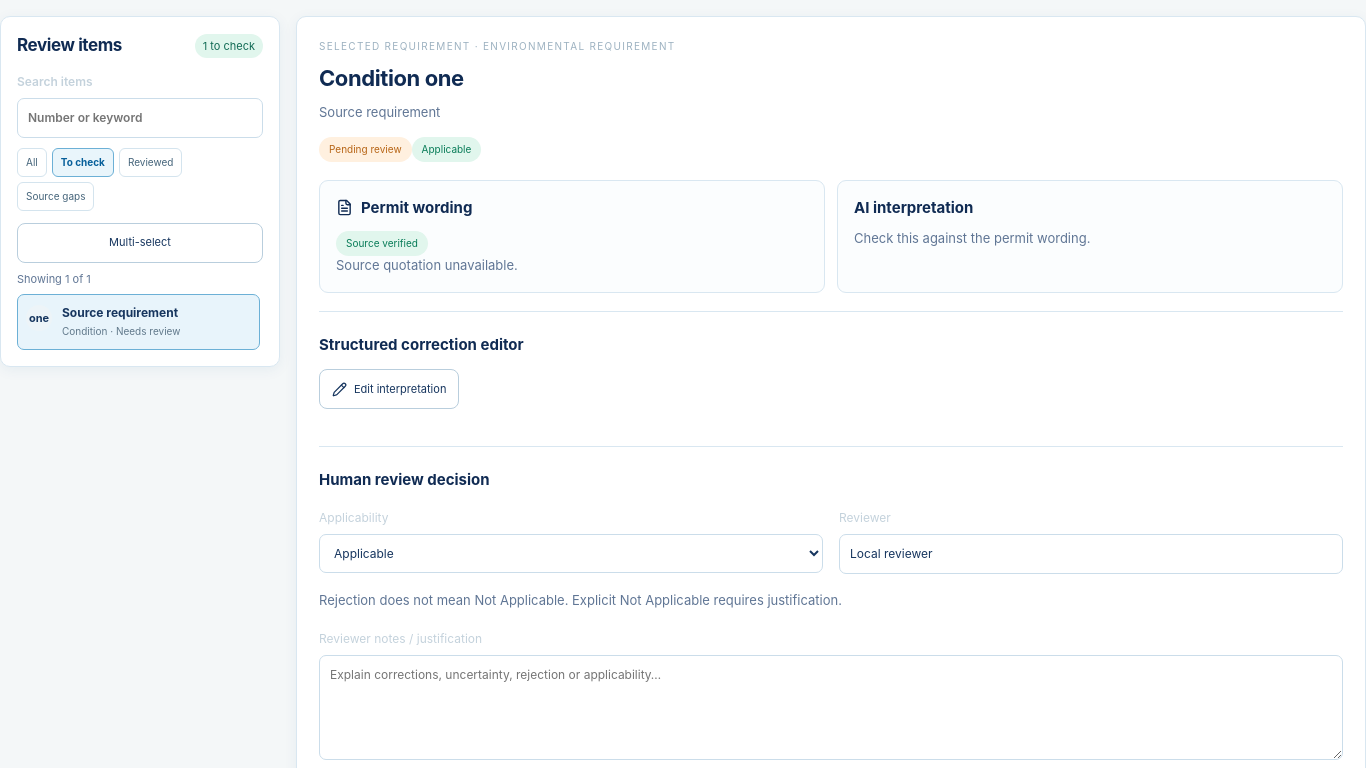
it: confirmed multi-select saves approval and applicability and reports completion
Expected: the heading "Condition one" is shown, [319, 65, 464, 91]
Click the button "Multi-select".
click(140, 242)  # box [17, 222, 263, 262]
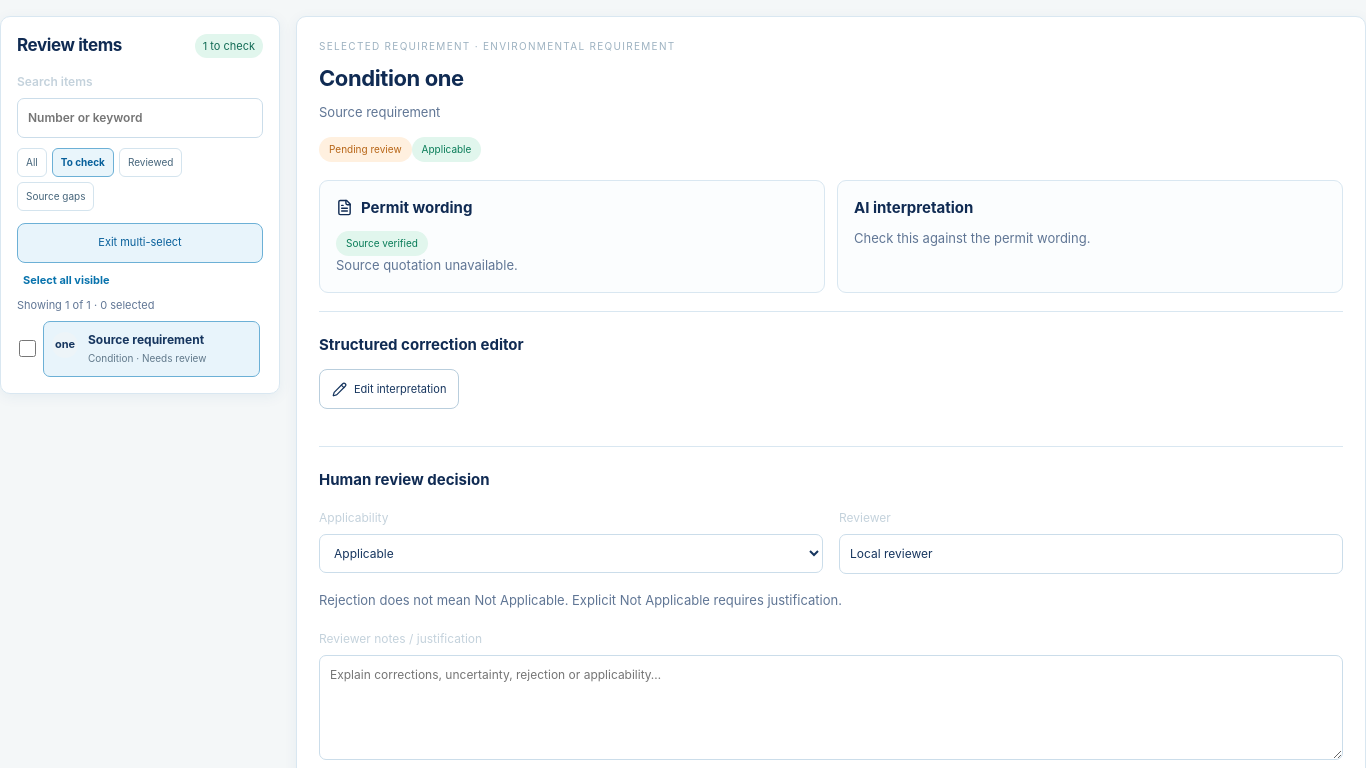
Click the button "Select all visible".
click(66, 280)  # box [17, 270, 116, 289]
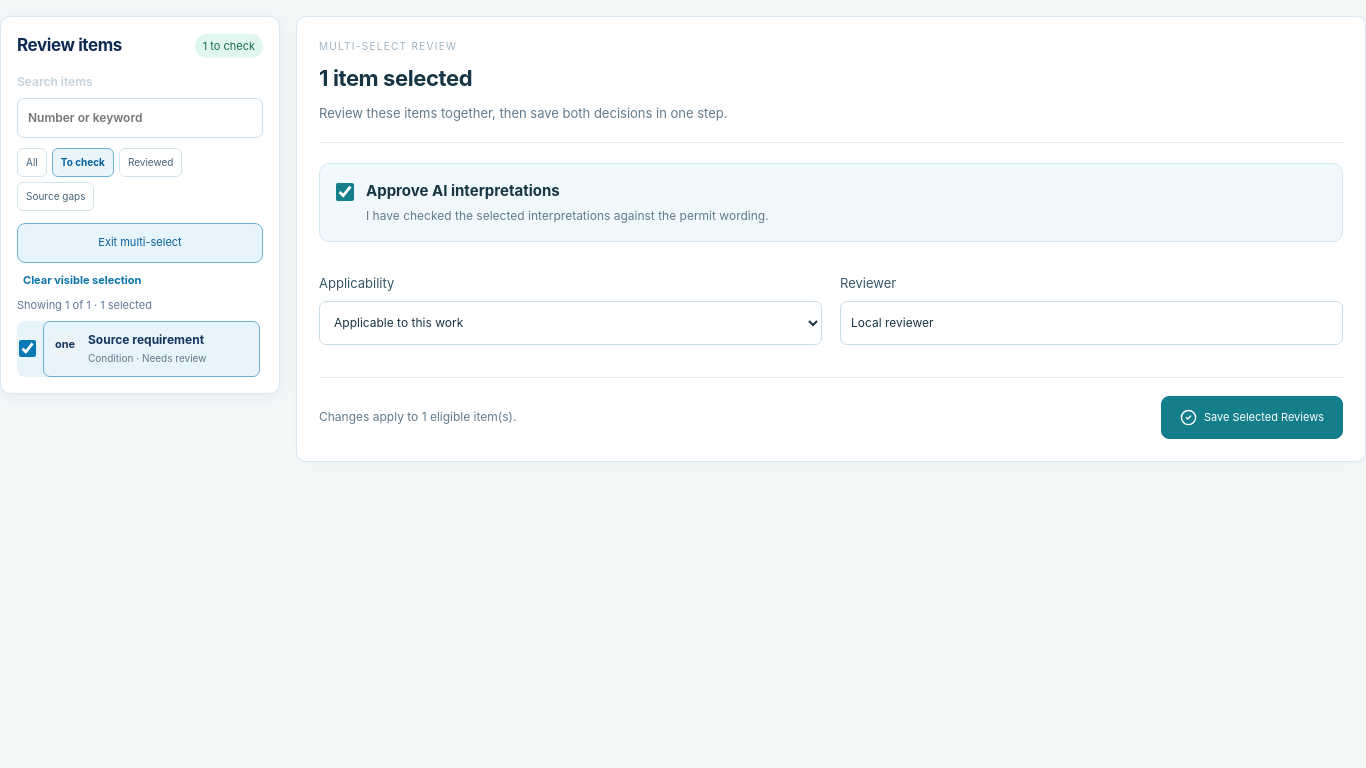
Click the button "Save Selected Reviews".
click(1252, 417)  # box [1161, 396, 1343, 439]
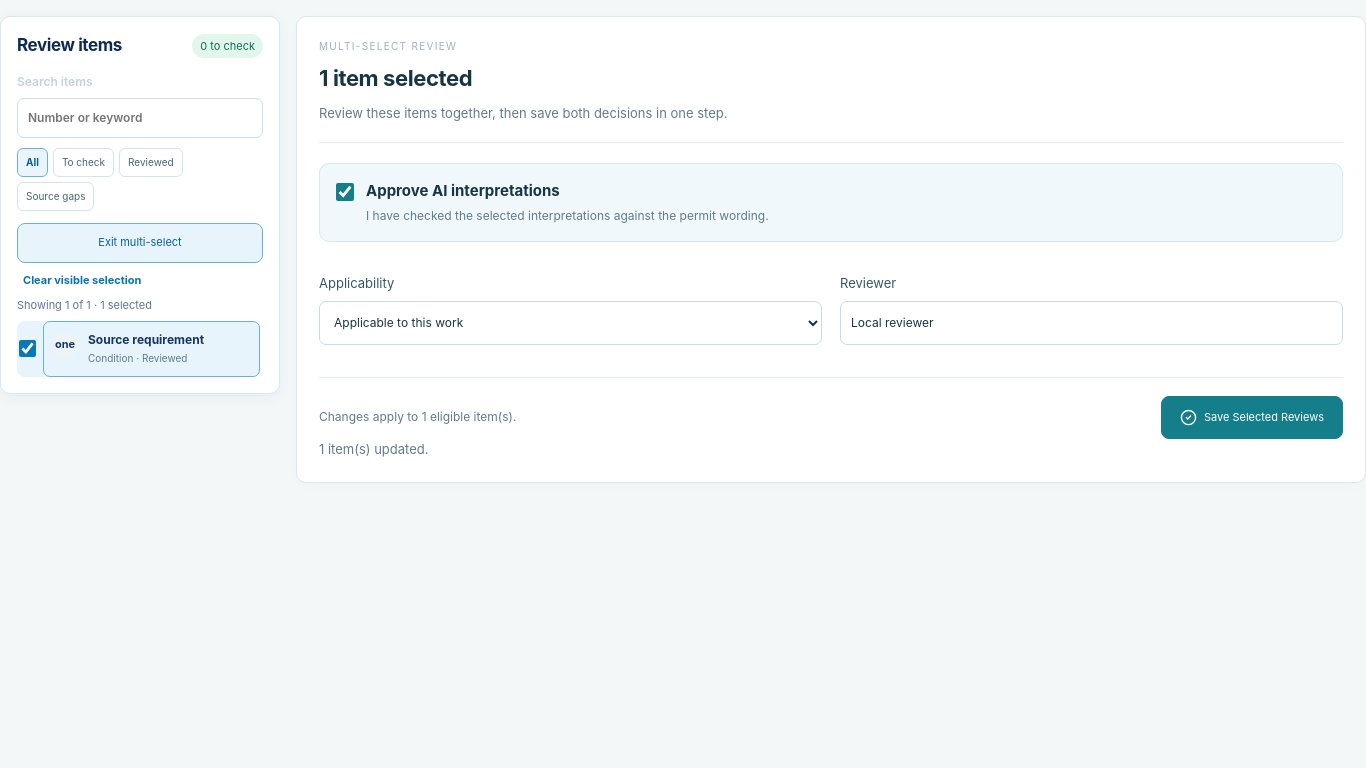
Result: the text "1 item(s) updated." is shown at [319, 441, 428, 457]
Result: the text "0 to check" is shown at [192, 34, 263, 58]
